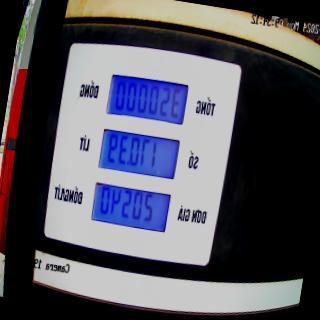screen: (86, 70, 192, 236)
